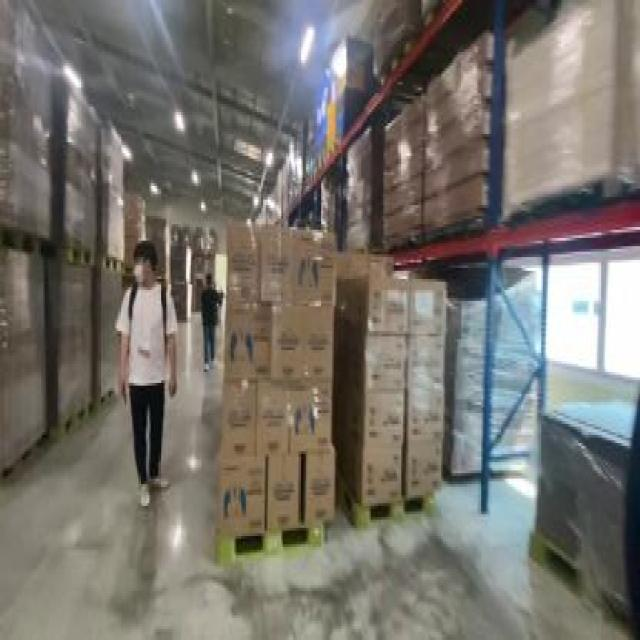box: (219, 222, 343, 564), (332, 243, 443, 522), (526, 394, 639, 637), (502, 8, 638, 205), (432, 257, 537, 490), (382, 36, 489, 227), (0, 2, 58, 251), (38, 257, 96, 435), (2, 235, 43, 484), (55, 71, 97, 263), (125, 200, 189, 326), (310, 44, 368, 164), (95, 118, 126, 268), (97, 260, 128, 402), (342, 139, 380, 249), (180, 214, 217, 326), (283, 115, 317, 200), (322, 172, 342, 255), (262, 170, 286, 224)
person: (124, 238, 176, 506), (200, 271, 220, 377)
